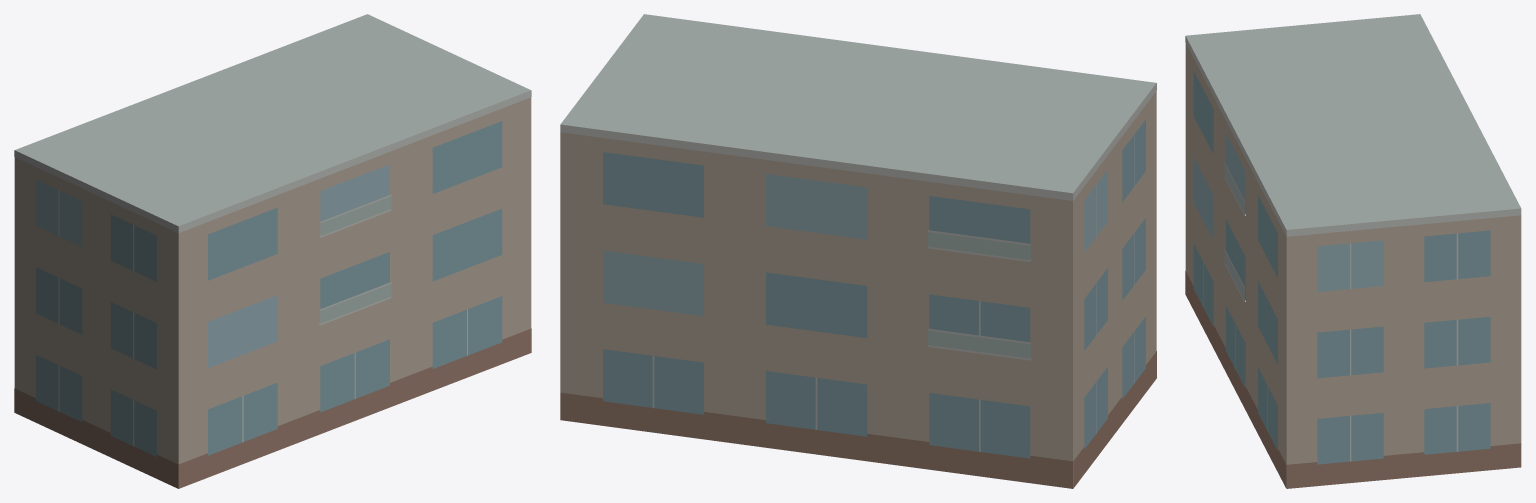
File: survey-upis-32951194.glb
3 renders of one model, left to right at view 1: azimuth 30°, elevation 25°; view 2: azimuth 150°, elevation 25°; view 3: azimuth 270°, elevation 25°, orthographic. The views are drawn at different scales.
Parts seen in each view (by area): view 1: survey-upis-32951194.tmp; view 2: survey-upis-32951194.tmp; view 3: survey-upis-32951194.tmp.
Part boxes in pixels (box(x1,y1,x2,y2)): survey-upis-32951194.tmp: box(14, 14, 531, 488); survey-upis-32951194.tmp: box(560, 14, 1156, 488); survey-upis-32951194.tmp: box(1185, 14, 1521, 488).
Bounding box in the file's own units: 16.66 × 9.3 × 10.95.
